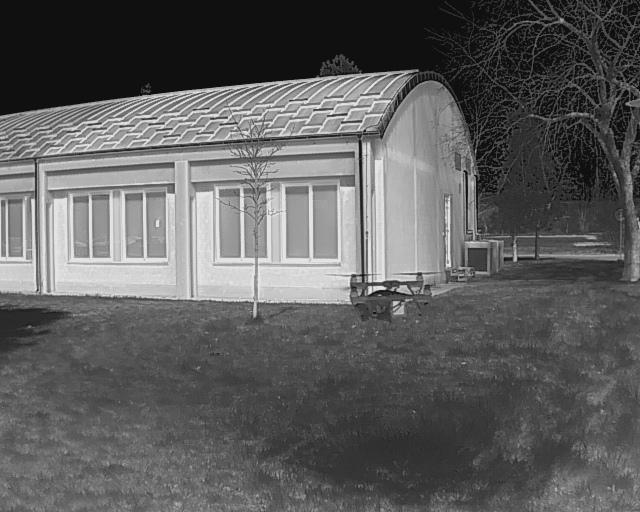drone: (318, 259, 450, 334)
